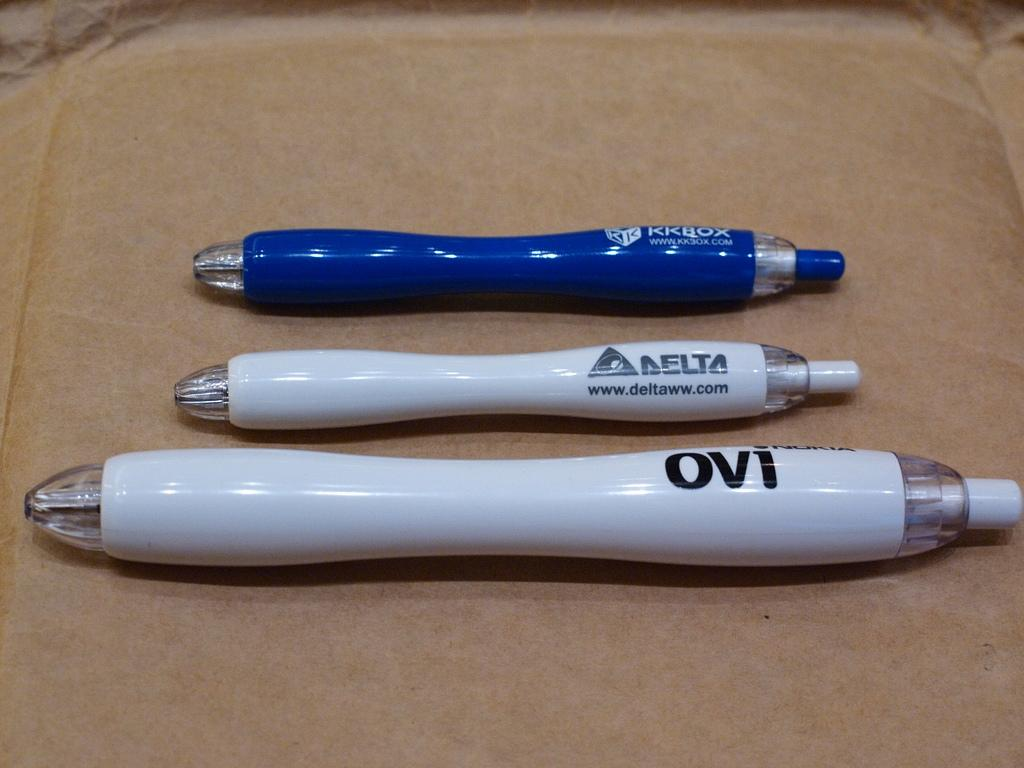pen: (24, 450, 1023, 568), (175, 345, 867, 435), (193, 225, 851, 308)
